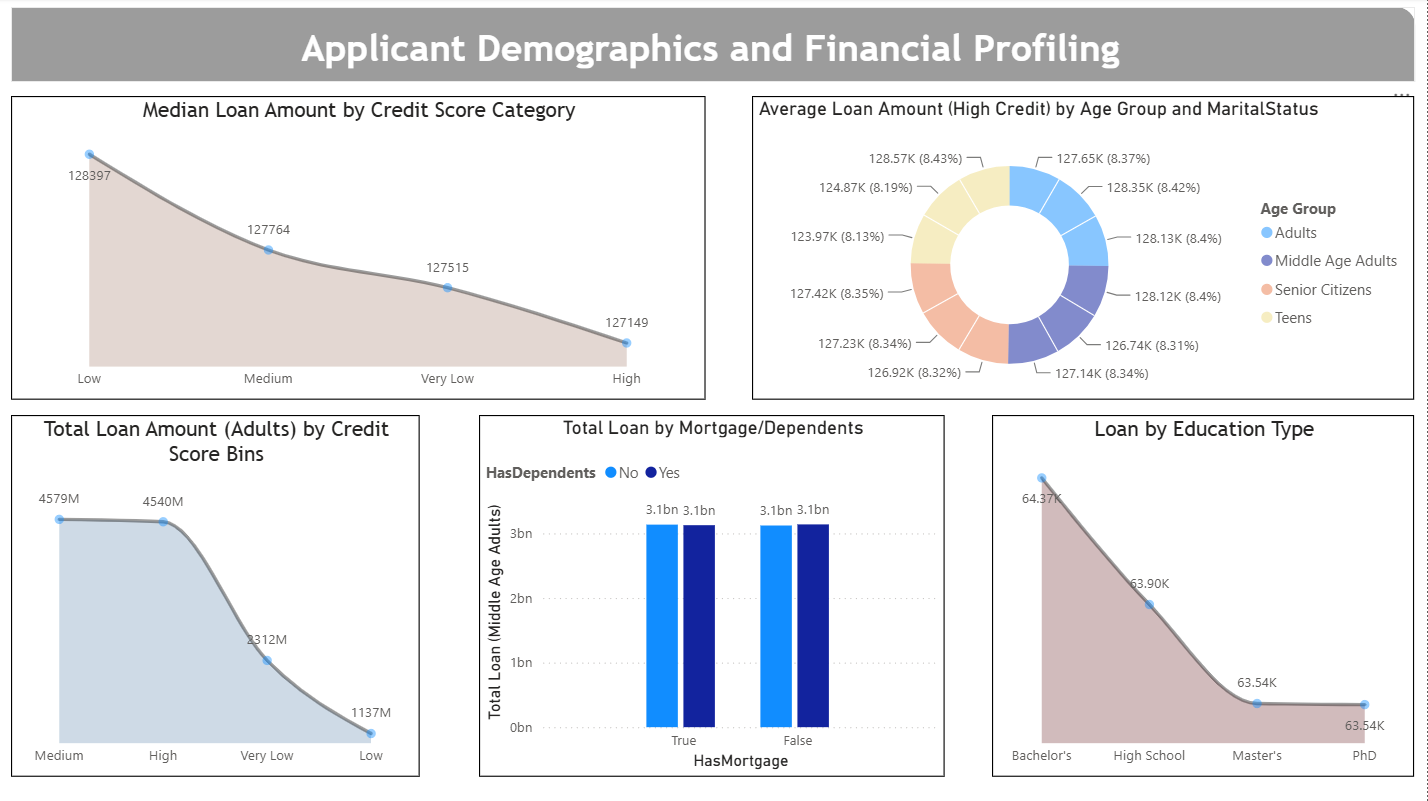

The dashboard page shown, as its layout file describes it:
{"tool":"powerbi","page":{"name":"Applicant Demographics and Financial Profile","canvas":[1280,720],"ordinal":1},"visuals":[{"type":"shape","box":[11.7,7.8,1257.6,67.1],"z":0},{"type":"lineChart","title":"Median Loan Amount by Credit Score Category","fields":{"Category":["Loan_default.Credit Score Bins"],"Y":["Measures Table 2.Median by Credit Score bins"]},"box":[11.7,87.5,621.5,272.3],"z":1000},{"type":"donutChart","fields":{"Category":["Loan_default.Age Group"],"Series":["Loan_default.MaritalStatus"],"Y":["Measures Table 2.Average Loan Amount (High Credit)"]},"box":[675,87.5,593.3,272.3],"z":2000},{"type":"lineChart","title":"Total Loan Amount (Adults) by Credit Score Bins","fields":{"Category":["Loan_default.Credit Score Bins"],"Y":["Measures Table 2.Total Loan (bins)"]},"box":[11.7,373.5,365.7,323.9],"z":3000},{"type":"clusteredColumnChart","title":"Total Loan by Mortgage/Dependents","fields":{"Category":["Loan_default.HasMortgage"],"Series":["Loan_default.HasDependents"],"Y":["Measures Table 2.Total Loan (Middle Age Adults)"]},"box":[430.9,373.5,417.3,323.9],"z":4000},{"type":"lineChart","title":"Loan by Education Type","fields":{"Category":["Loan_default.Education"],"Y":["Measures Table 2.Loan by Education Type"]},"box":[890,373.5,378.4,323.9],"z":5000}]}

Visuals, with their boxes in screenshot pixels (x1, y1, x2, y2), scaled from the page's 1280x720 canvas onto the 1428x801 screenshot:
shape: {"left": 13, "top": 9, "right": 1416, "bottom": 83}
"Median Loan Amount by Credit Score Category" lineChart: {"left": 13, "top": 97, "right": 706, "bottom": 400}
donutChart - Loan_default.Age Group x Loan_default.MaritalStatus: {"left": 753, "top": 97, "right": 1415, "bottom": 400}
"Total Loan Amount (Adults) by Credit Score Bins" lineChart: {"left": 13, "top": 416, "right": 421, "bottom": 776}
"Total Loan by Mortgage/Dependents" clusteredColumnChart: {"left": 481, "top": 416, "right": 946, "bottom": 776}
"Loan by Education Type" lineChart: {"left": 993, "top": 416, "right": 1415, "bottom": 776}
